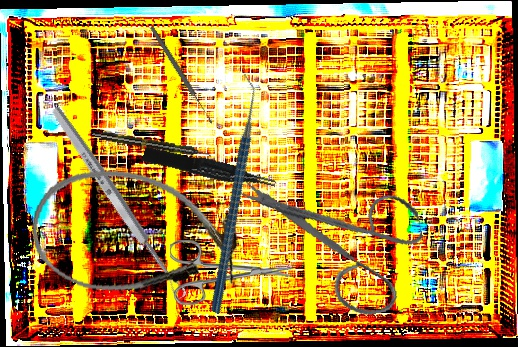Cannula: (22, 157, 248, 313)
Chopper: (134, 72, 327, 315)
Handpiece: (91, 129, 213, 160)
Iris Scissors: (238, 148, 437, 336), (169, 239, 294, 308)
Surgical Spoon: (48, 104, 189, 302), (148, 24, 215, 126)
Tissue Forceps: (141, 140, 278, 199)
